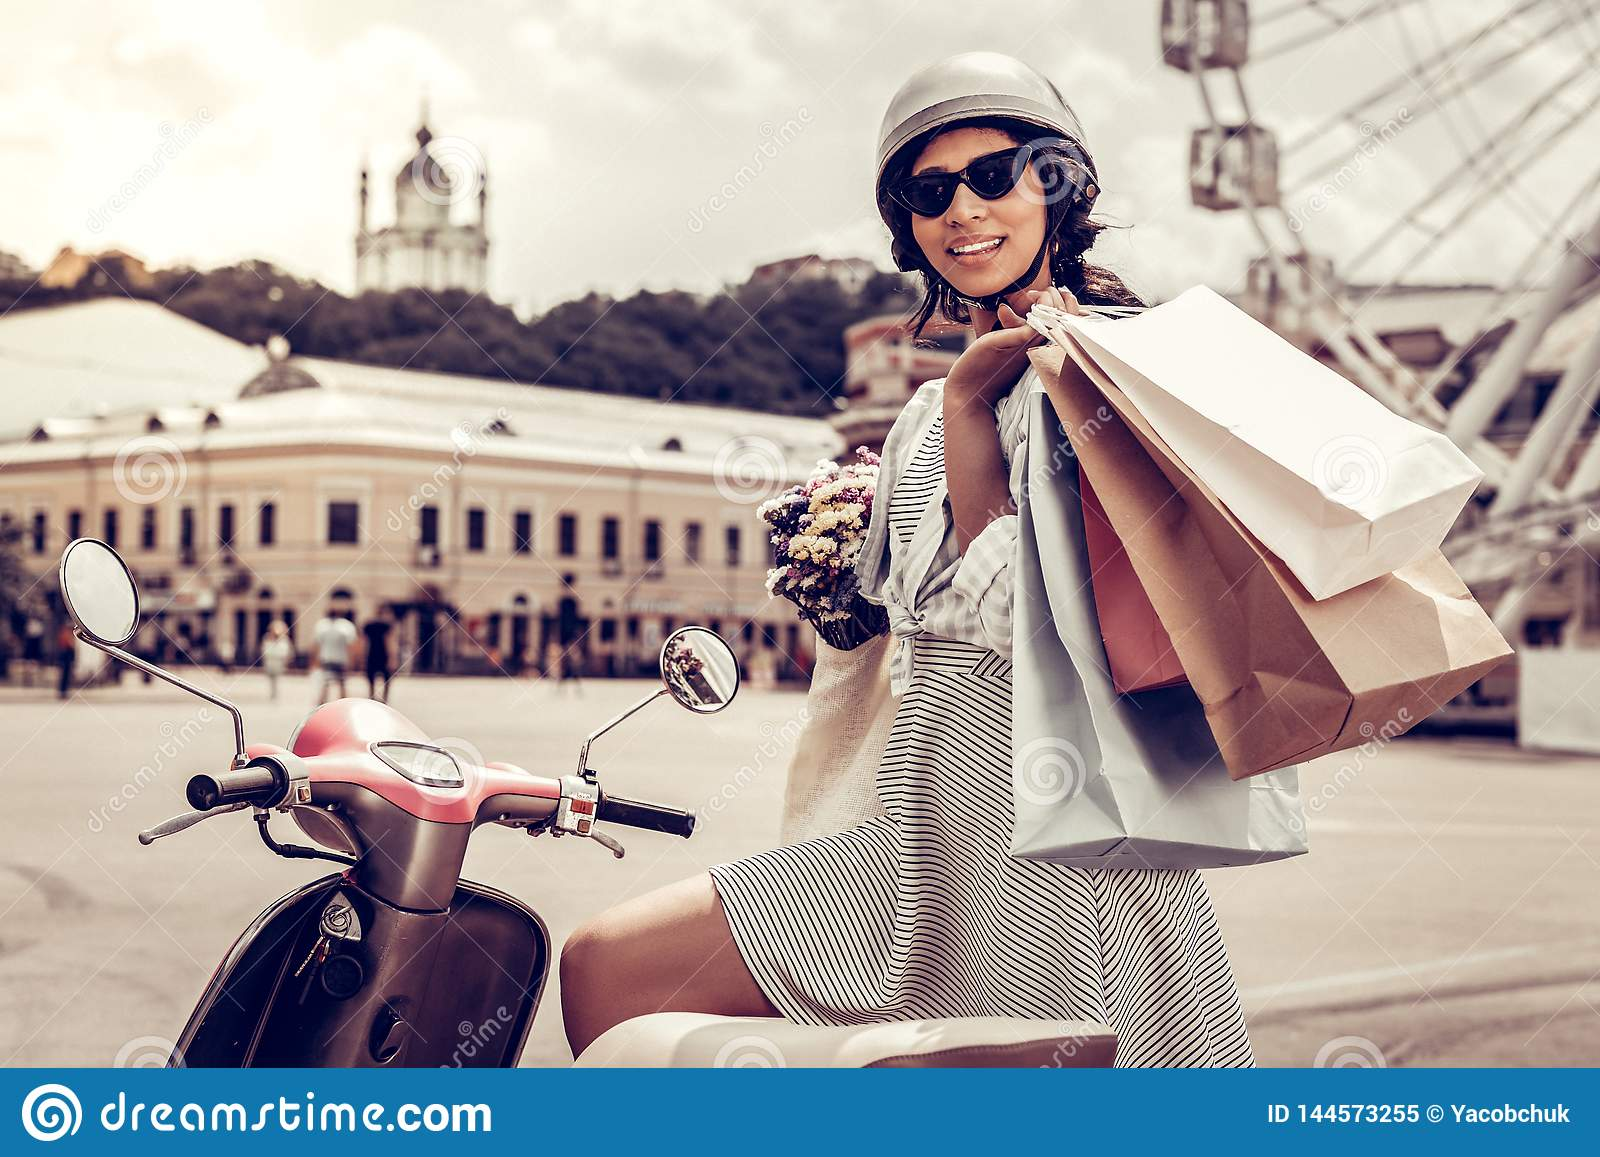helmet: (868, 57, 1093, 162)
